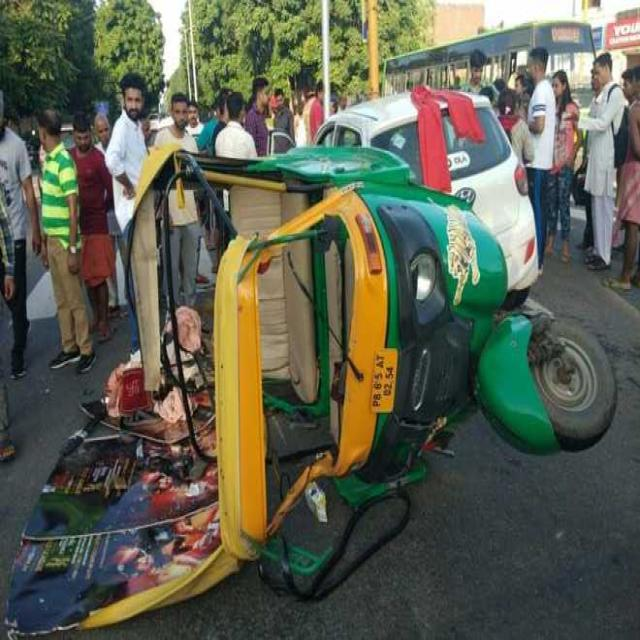accident: (8, 145, 615, 634)
car: (318, 85, 538, 305)
